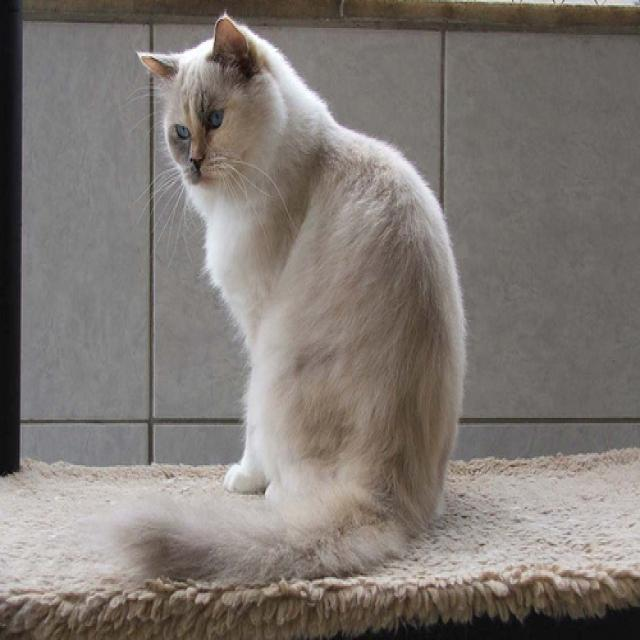cat: (136, 14, 268, 192)
